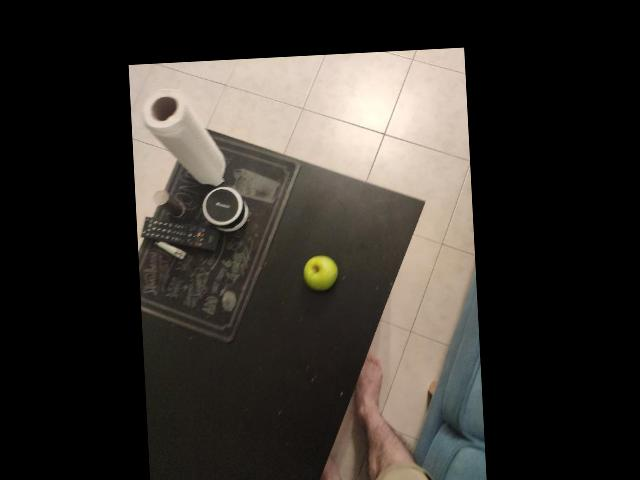apple: (334, 189, 380, 227)
